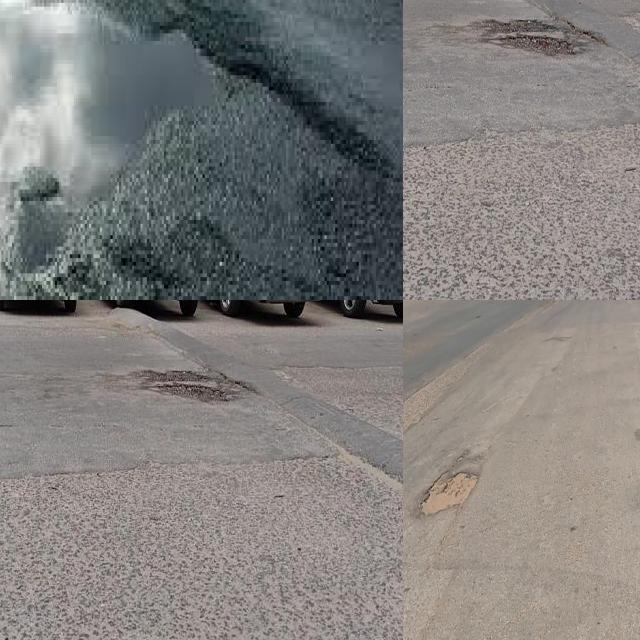Pothole: (473, 11, 577, 59), (422, 474, 477, 514), (144, 385, 228, 402), (137, 371, 207, 382)
Unmarked Bump: (111, 308, 403, 481)
